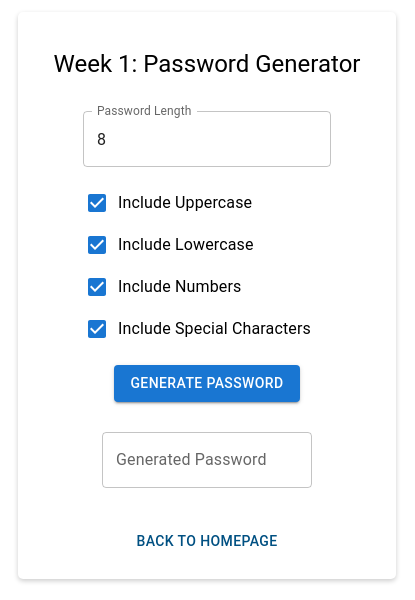
generates password when generate password button is clicked
The width and height of the screenshot is (415, 600).
Click the button "Generate Password" at [207, 383], box [114,365,300,402]
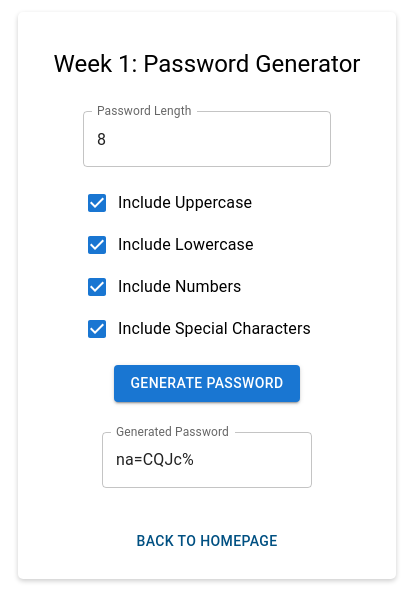
Now the text box labelled "Generated Password" is not empty, box [116,448,298,471]
